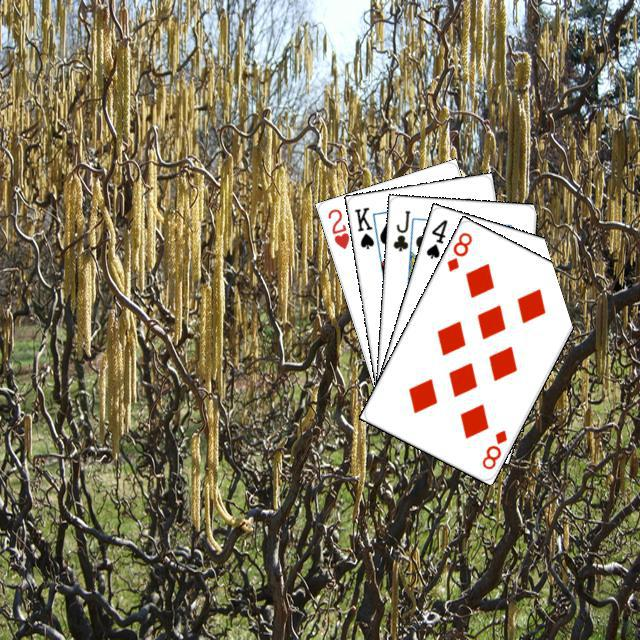2h: (323, 204, 351, 251)
4s: (421, 215, 449, 260)
8d: (442, 227, 474, 273), (477, 425, 509, 471)
Jc: (388, 205, 412, 253)
Ks: (350, 202, 376, 251)
